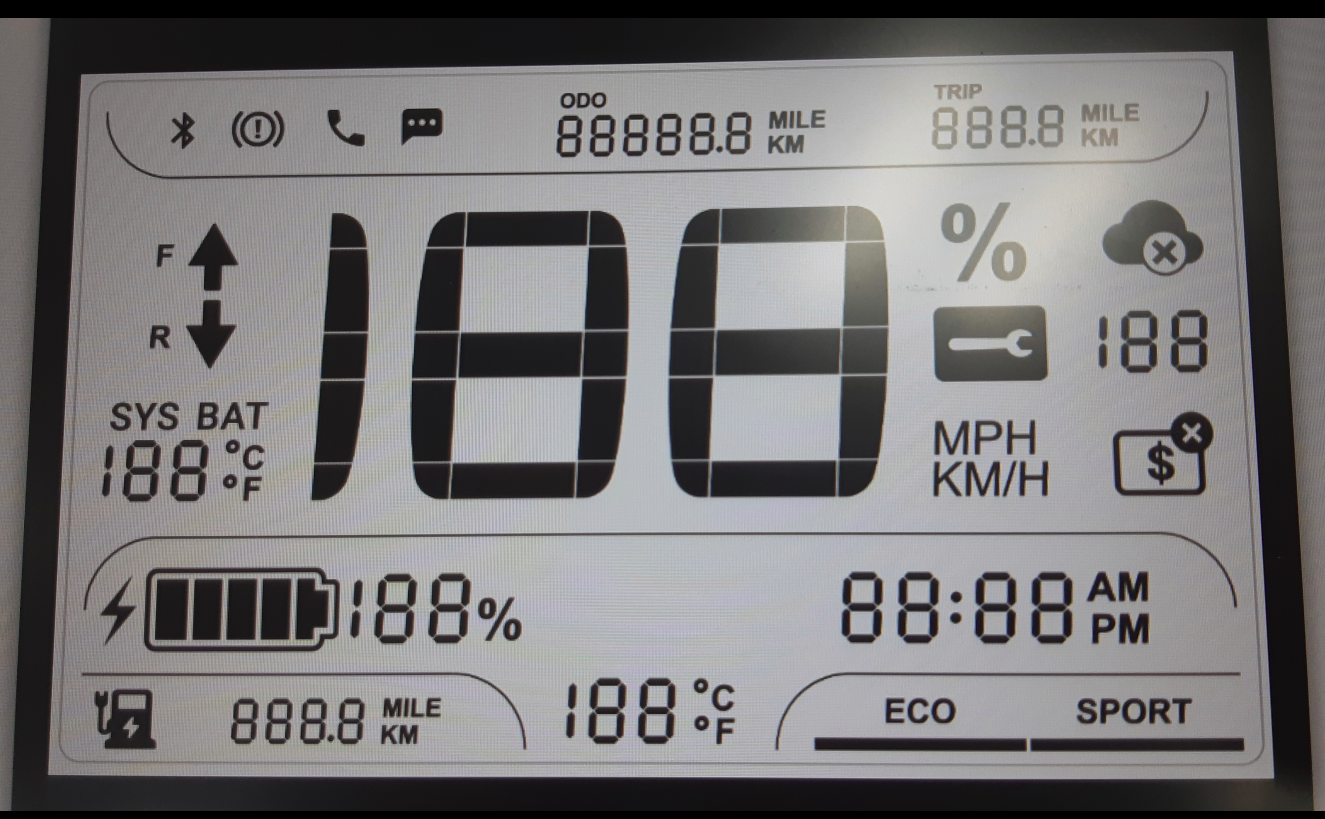bluetooth_on: (167, 106, 203, 152)
braking_on: (226, 106, 290, 151)
calling_on: (320, 104, 373, 153)
connection_lost: (1098, 195, 1209, 281)
error_code: (927, 302, 1054, 386)
low_battery: (90, 683, 162, 754)
sms_on: (396, 105, 446, 149)
vin_id: (1107, 407, 1216, 499)
